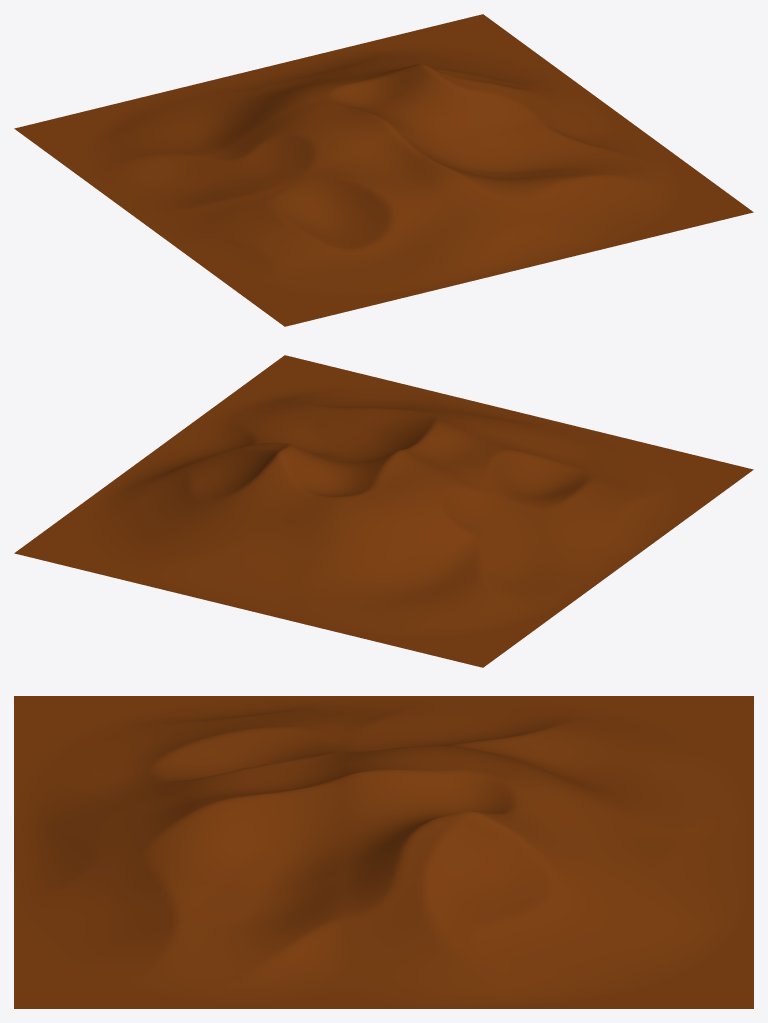
The model's file is Sand.fbx.
3 views of the same model, one above another, from view 1: azimuth 30°, elevation 25°; view 2: azimuth 150°, elevation 25°; view 3: azimuth 270°, elevation 25° (orthographic). The views are drawn at different scales.
Parts seen in each view (by area): view 1: Landscape; view 2: Landscape; view 3: Landscape.
Part boxes in pixels (x1,y1,x2,y2): Landscape: [14, 14, 753, 326]; Landscape: [14, 355, 753, 667]; Landscape: [14, 696, 753, 1008].
Size of the model in its own units: 400 by 53.05 by 400.
